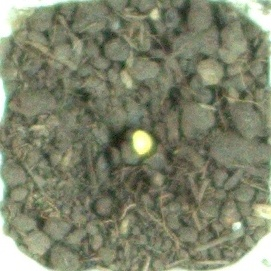pepper seed: (53, 50, 209, 208)
